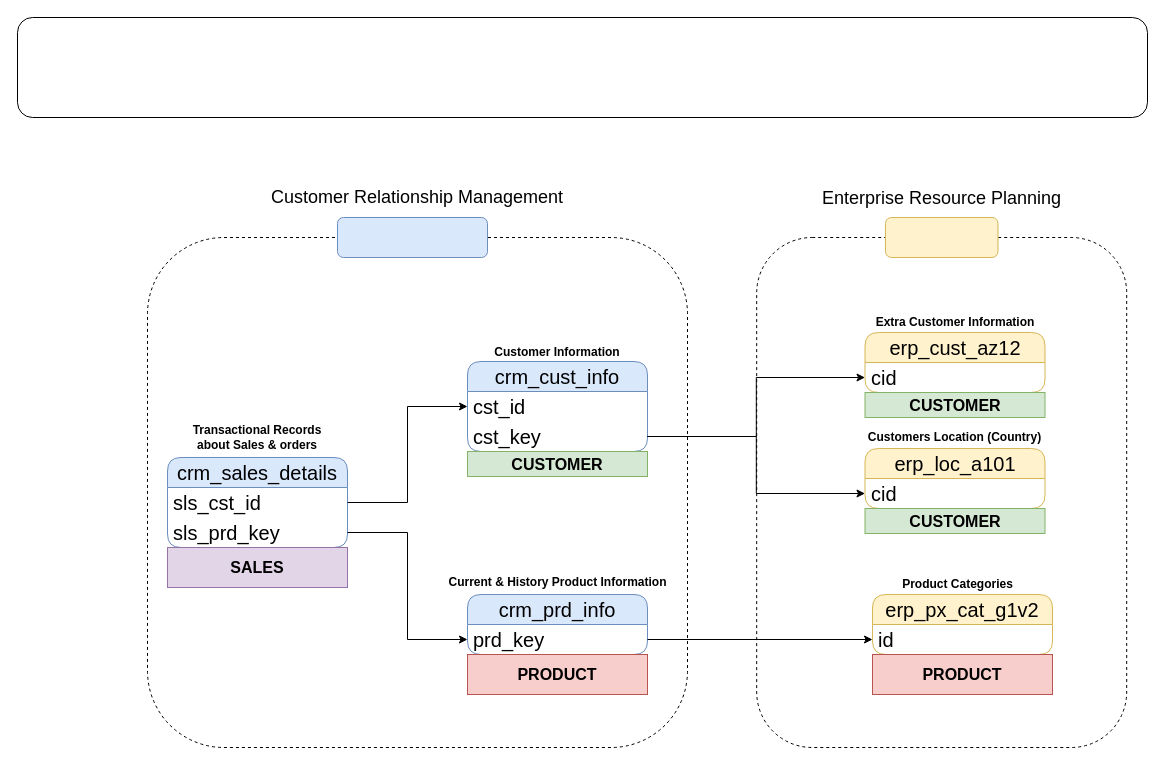
Image size: 1165x765. Some labels were removed from this diagram. The shapes that lost their labels are listed below. From the top down, each one's centre as x and y in pixels, then its label:
At (582,67): "Data Integration (how tables are related)".
At (412,237): "CRM".
At (941,237): "ERP".
